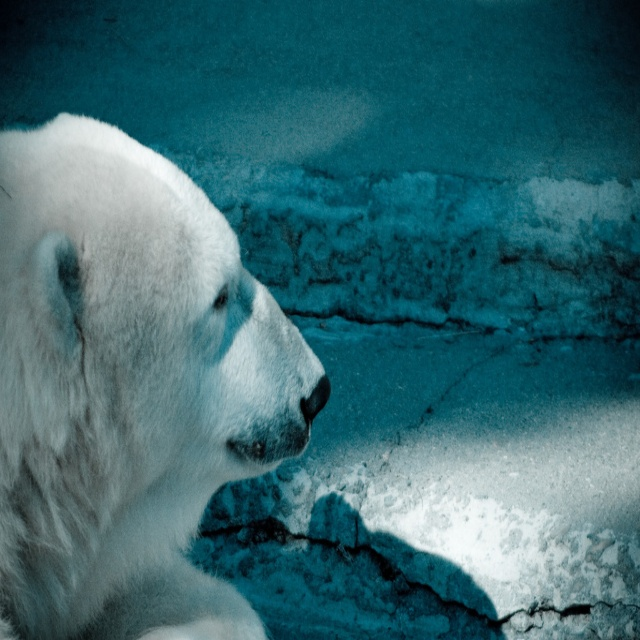Polar bear: (0, 117, 334, 639)
